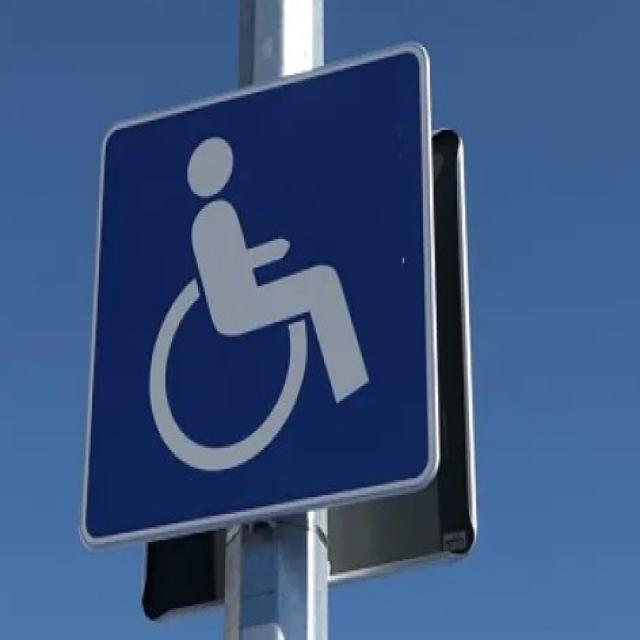symbol_of_access: (76, 39, 448, 557)
